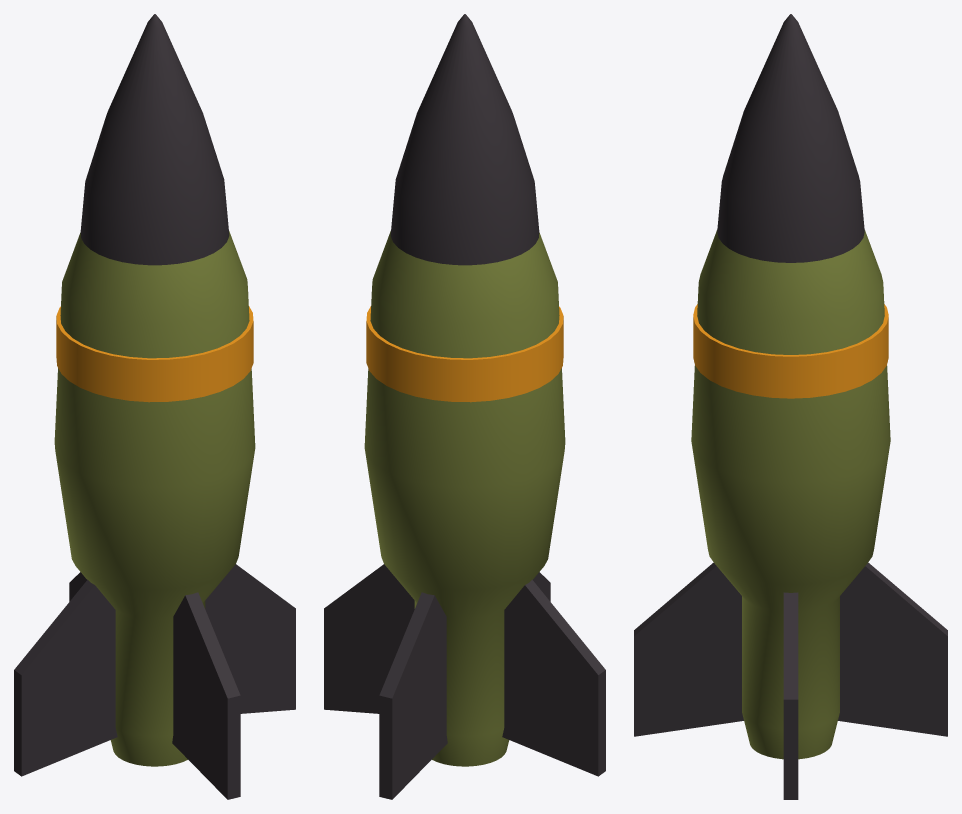
The model's file is ammo-rockets.glb.
3 views of the same model, side by side, from view 1: azimuth 30°, elevation 25°; view 2: azimuth 150°, elevation 25°; view 3: azimuth 270°, elevation 25° (orthographic).
Visible parts, largest first — view 1: ammo-rockets-surfaces; view 2: ammo-rockets-surfaces; view 3: ammo-rockets-surfaces.
Boxes of the visible parts, box(x1,y1,x2,y2) form: ammo-rockets-surfaces: box(14, 14, 295, 799); ammo-rockets-surfaces: box(324, 14, 605, 799); ammo-rockets-surfaces: box(634, 14, 947, 799).
Bounding box in the file's own units: 0.34 × 0.87 × 0.34.
3 materials, 3 textured.
